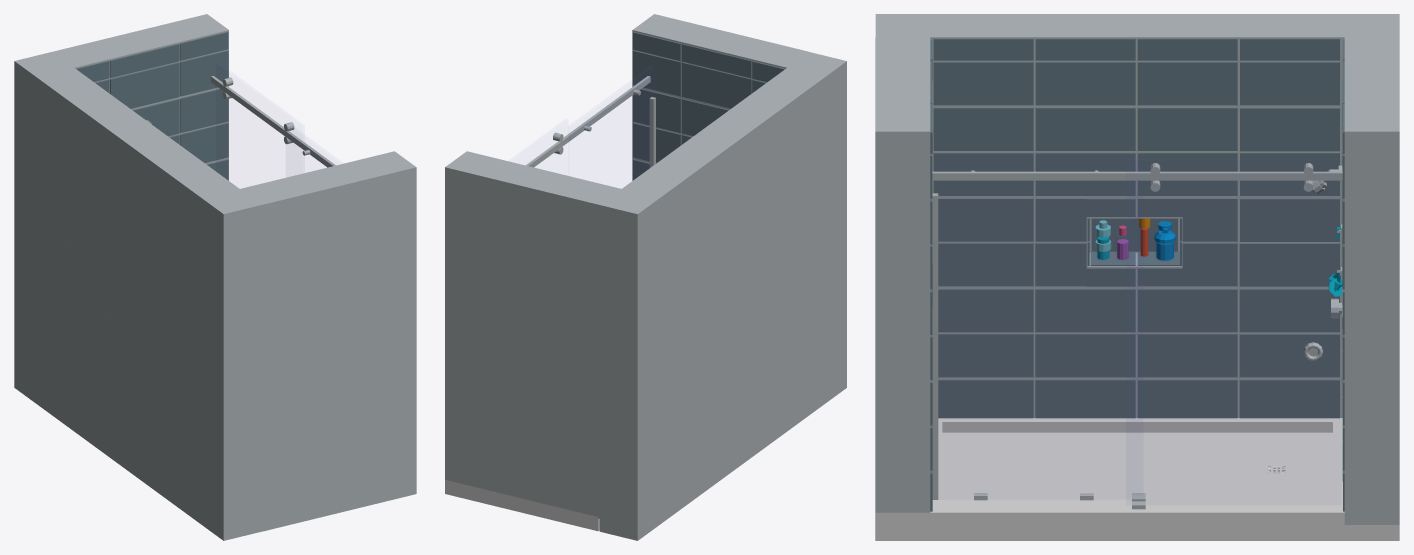
The model's file is shower.gltf.
3 renders of one model, left to right at view 1: azimuth 30°, elevation 25°; view 2: azimuth 150°, elevation 25°; view 3: azimuth 270°, elevation 25°, orthographic. The views are drawn at different scales.
Parts seen in each view (by area): view 1: node_MeshObject561412736-PolyPaper15; view 2: node_MeshObject561412736-PolyPaper15; view 3: node_MeshObject561412736-PolyPaper15.
Part boxes in pixels (left/top/right/bottom): node_MeshObject561412736-PolyPaper15: left=14, top=14, right=416, bottom=540; node_MeshObject561412736-PolyPaper15: left=445, top=14, right=846, bottom=540; node_MeshObject561412736-PolyPaper15: left=875, top=14, right=1399, bottom=540.
Size of the model in its own units: 1.42 by 2.3 by 2.67.
